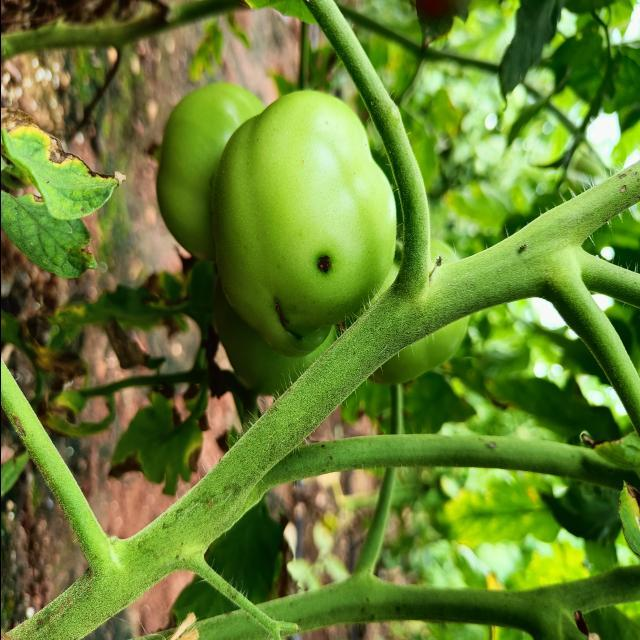Tomato mosaic virus leaf: (0, 100, 130, 228)
